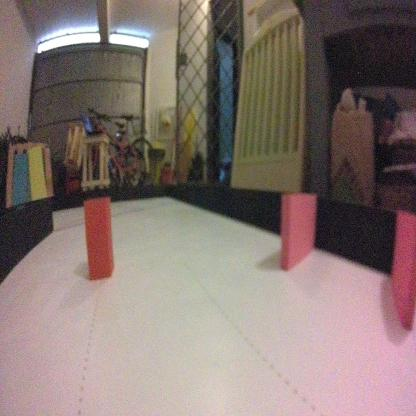magenta: (390, 206, 416, 337), (279, 190, 316, 271)
red: (81, 188, 118, 289)
